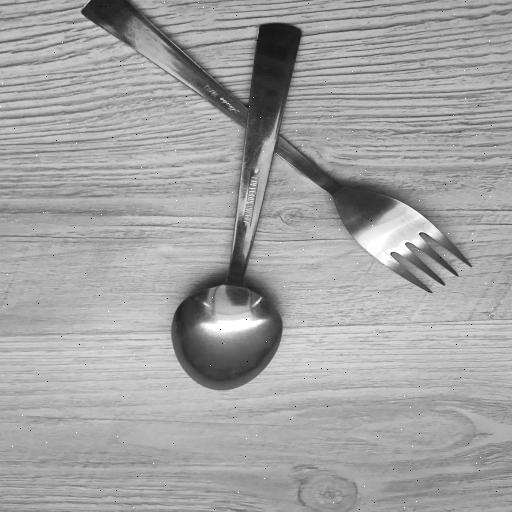fork: (83, 0, 472, 297)
spoon: (173, 34, 297, 391)
